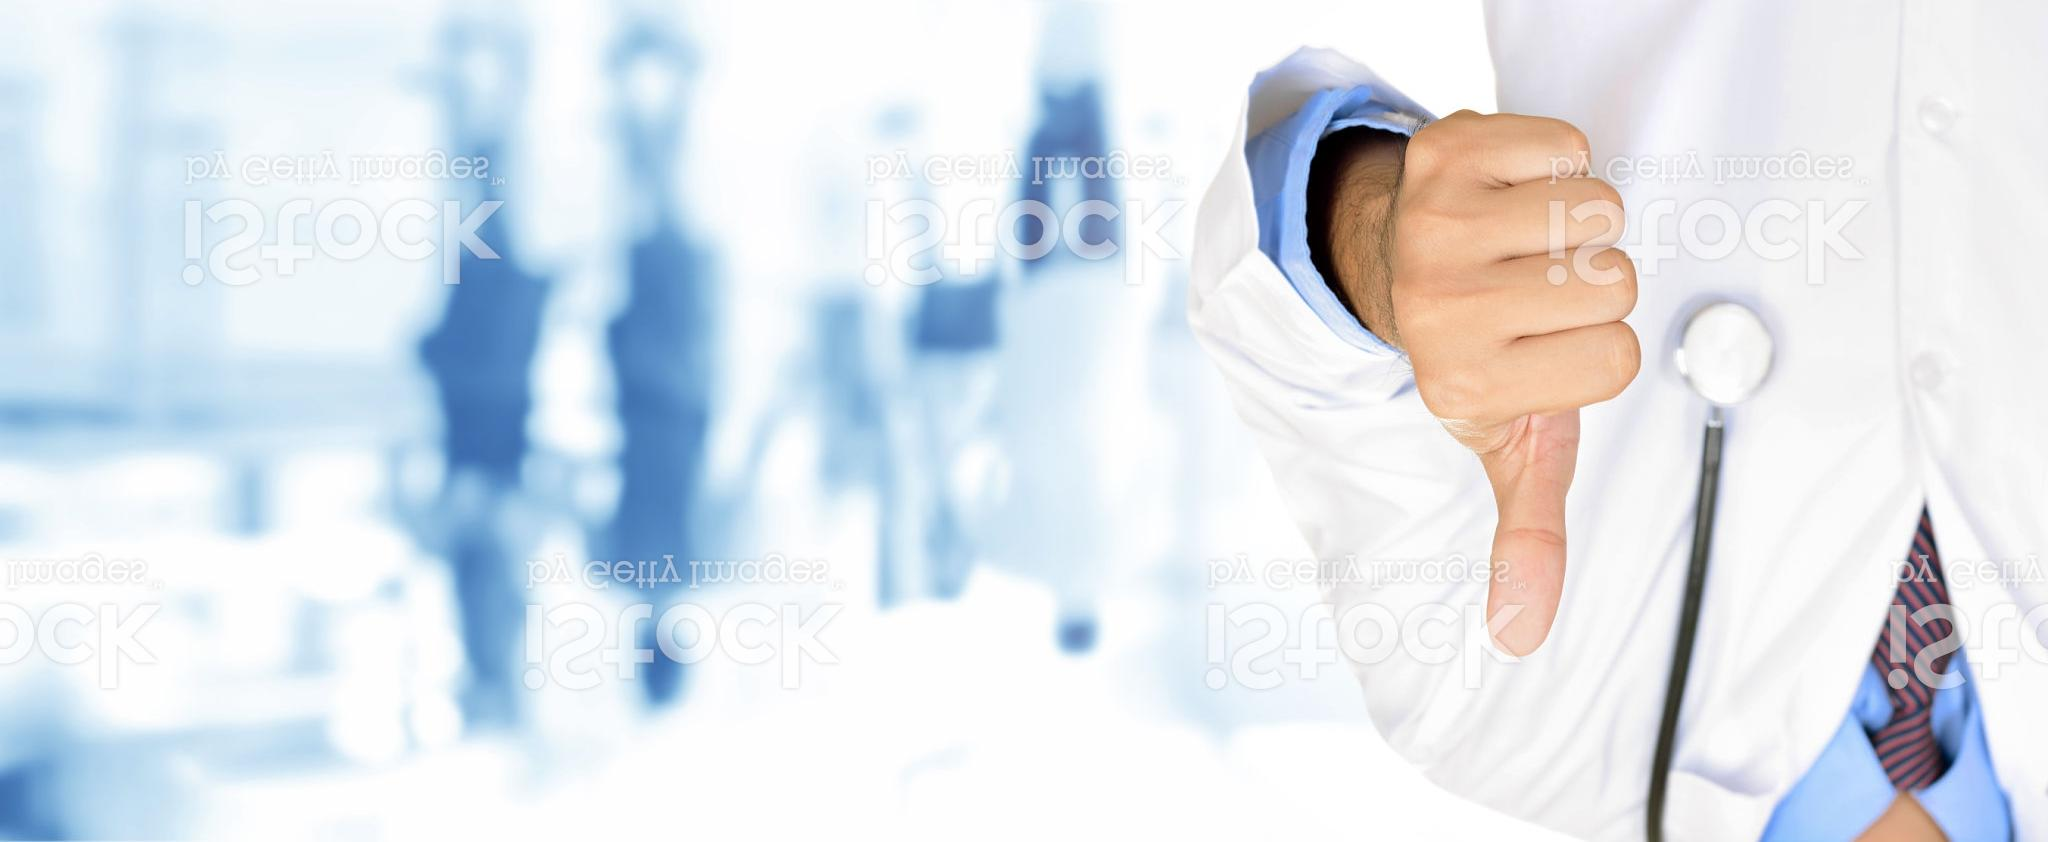thumbsdown: (1381, 104, 1644, 662)
